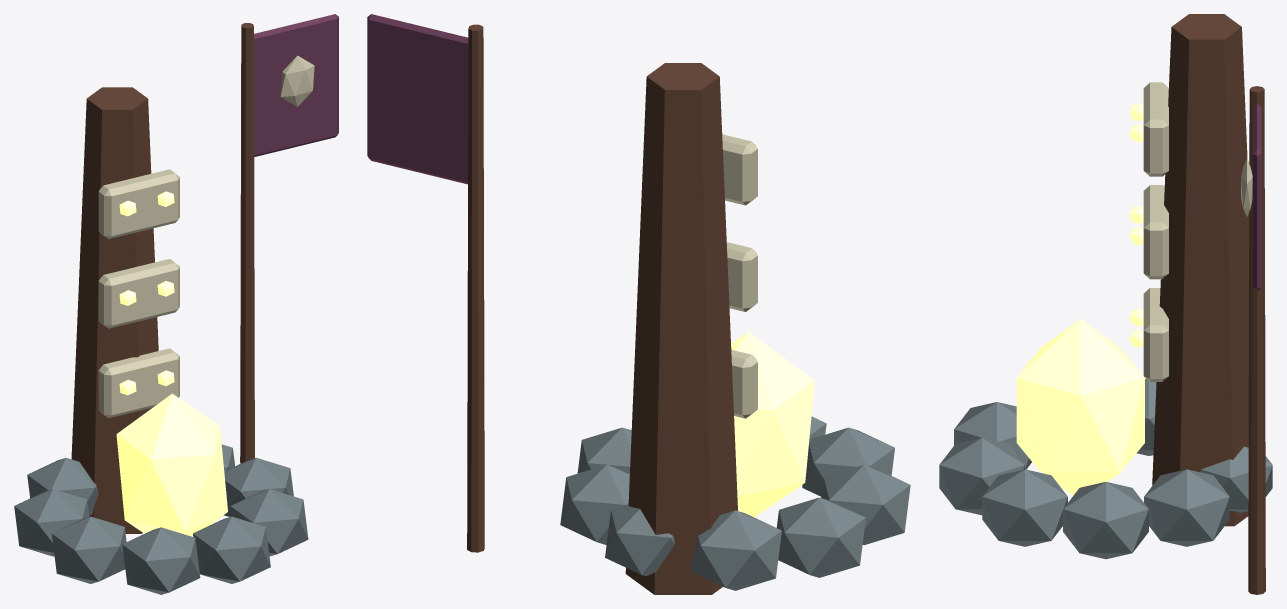
Rendered from goblin_campfire.glb.
The picture shows the model from 3 angles, left to right: view 1: azimuth 30°, elevation 25°; view 2: azimuth 150°, elevation 25°; view 3: azimuth 270°, elevation 25°; orthographic projection. The views are drawn at different scales.
Visible parts, largest first — view 1: Geometry; view 2: Geometry; view 3: Geometry.
Boxes of the visible parts, x1,y1,x2,y2 form: Geometry: (14, 14, 338, 594); Geometry: (367, 14, 910, 594); Geometry: (939, 14, 1272, 594).
Size of the model in its own units: 1.93 by 2.2 by 1.33.
